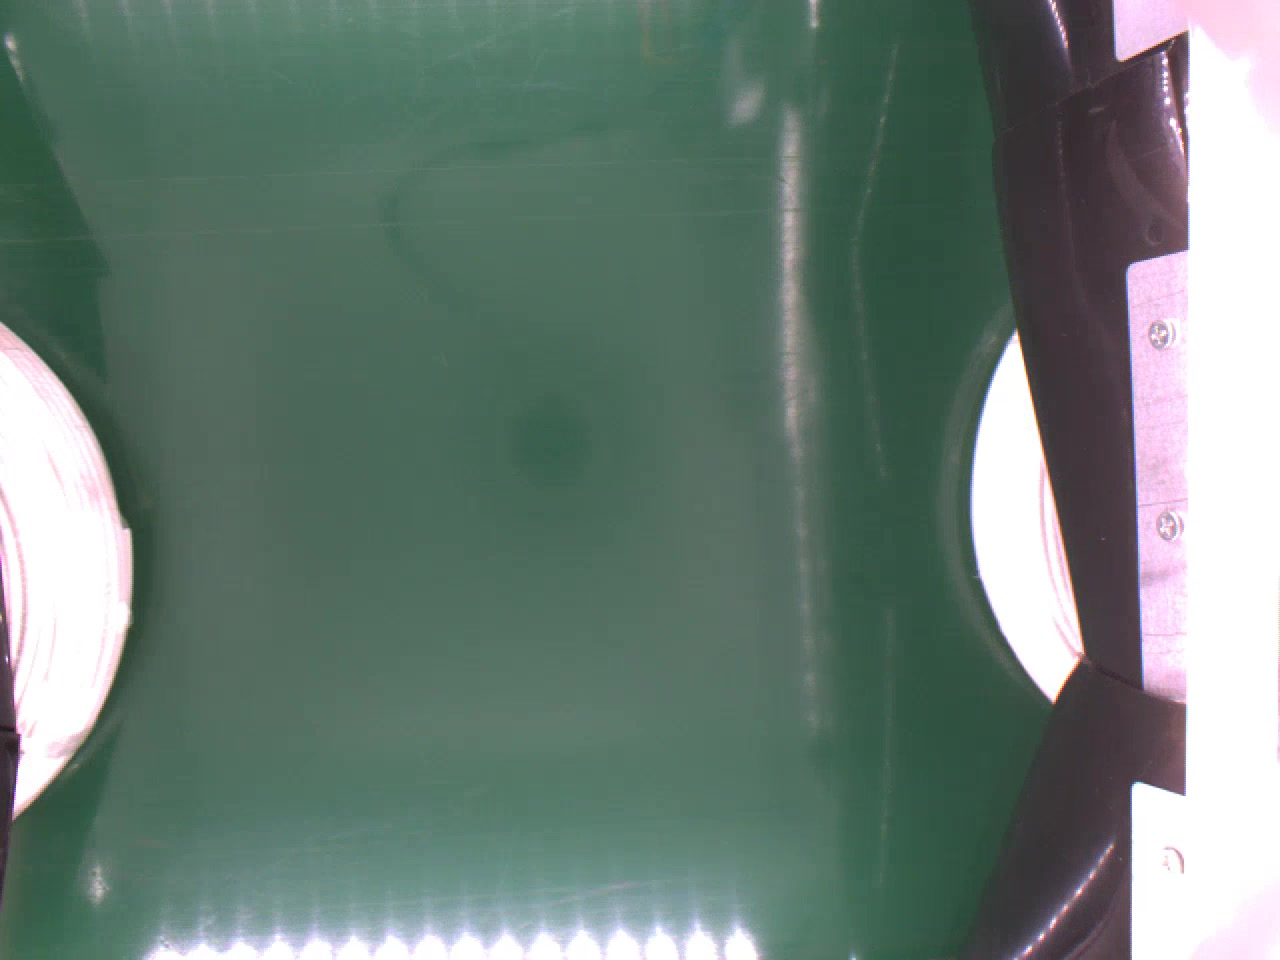white: (0, 316, 133, 826)
